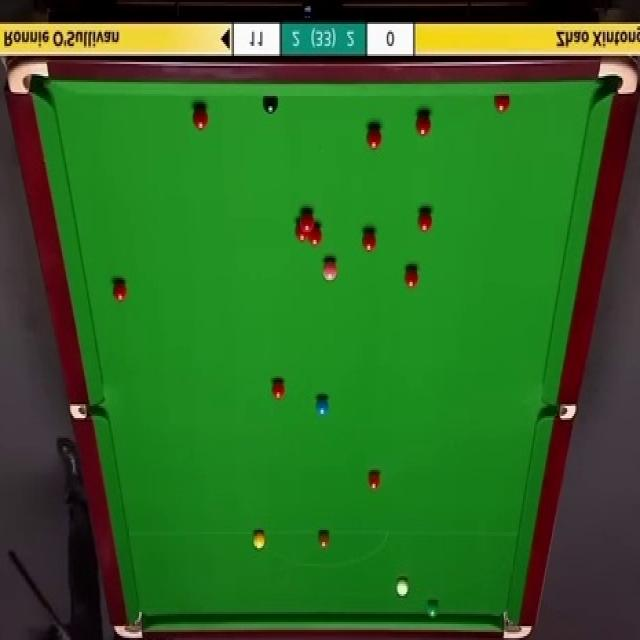black-ball: (262, 94, 280, 115)
blue-ball: (316, 394, 330, 418)
brown-ball: (318, 532, 330, 552)
green-ball: (425, 599, 439, 619)
pink-ball: (322, 256, 339, 281)
red-ball: (358, 229, 376, 255), (191, 105, 208, 132), (415, 110, 432, 136), (404, 265, 420, 291), (366, 124, 382, 150), (417, 211, 433, 234), (112, 280, 126, 305), (294, 218, 308, 242), (272, 376, 284, 403), (309, 222, 322, 246), (493, 97, 511, 114), (300, 210, 316, 229), (368, 472, 379, 492)
white-ball: (396, 578, 408, 596)
yellow-ball: (252, 531, 266, 549)
